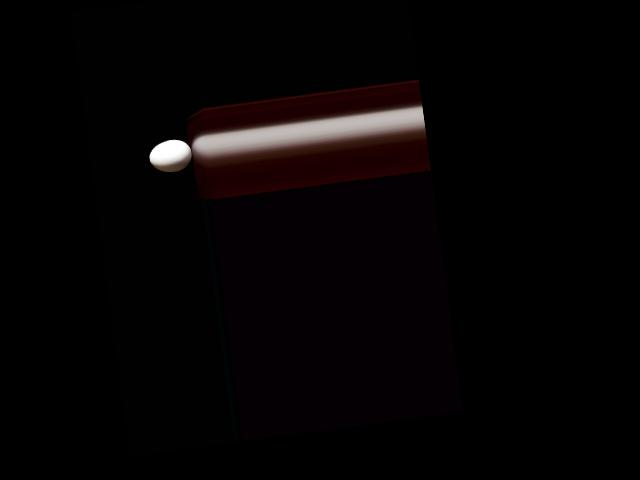egg: (147, 137, 194, 174)
